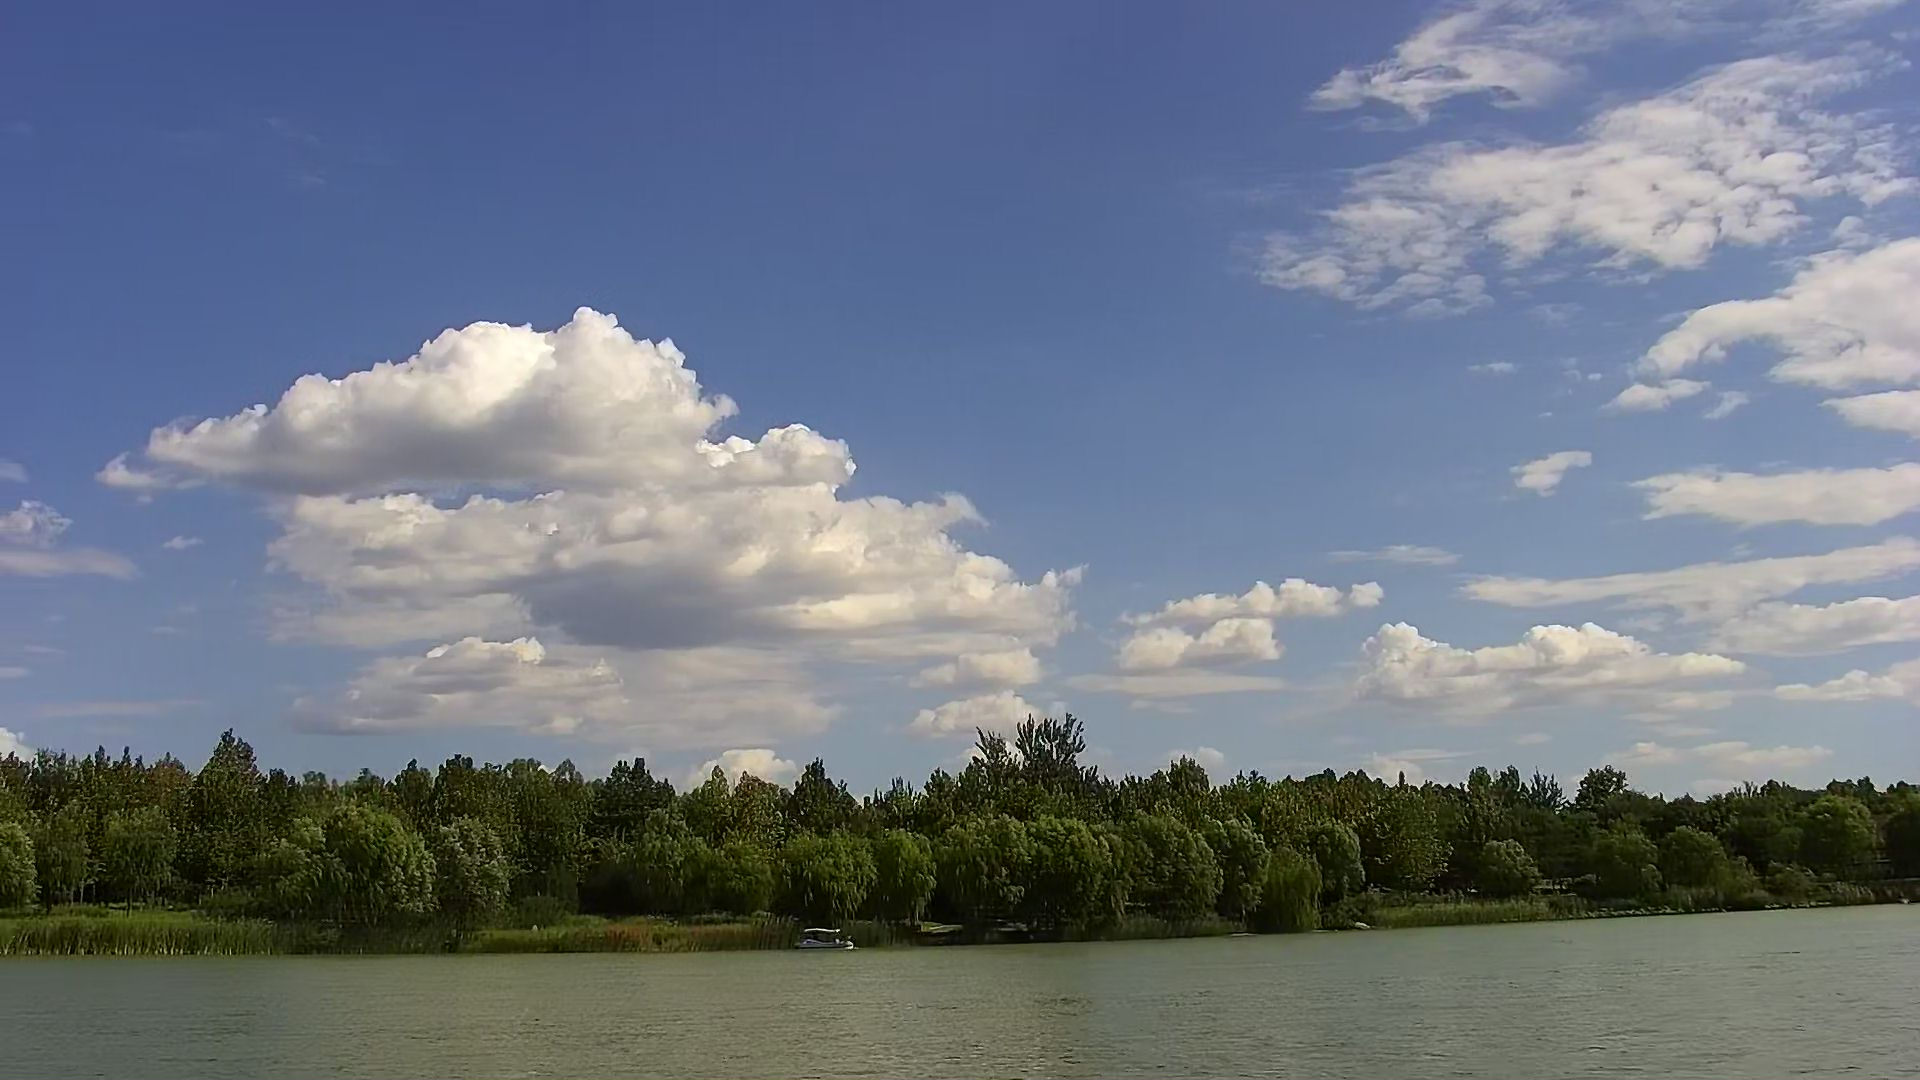boat: (795, 926, 858, 953)
